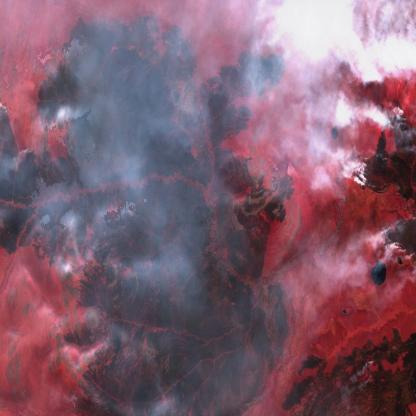fire: (352, 103, 416, 268), (0, 98, 34, 162)
